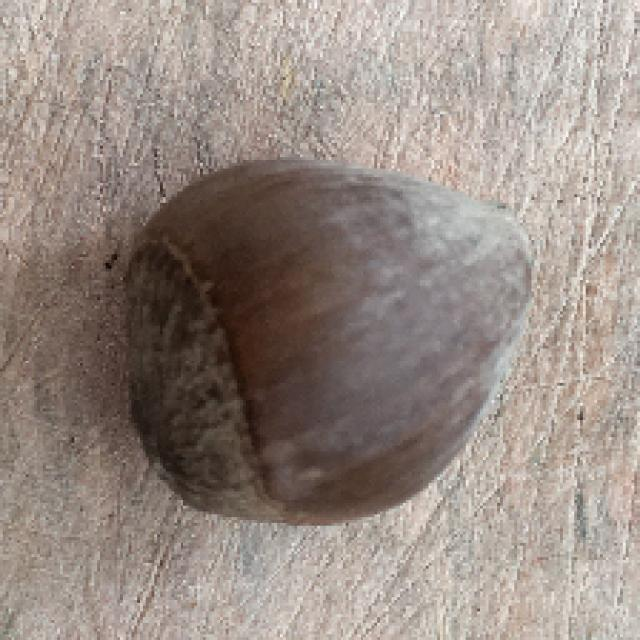DamagedHazelnut: (124, 156, 536, 528)
